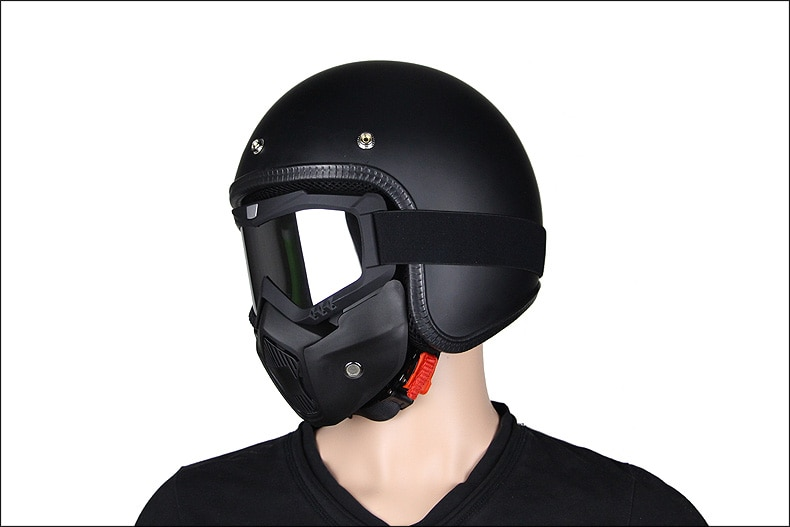with_helmet: (224, 58, 544, 423)
